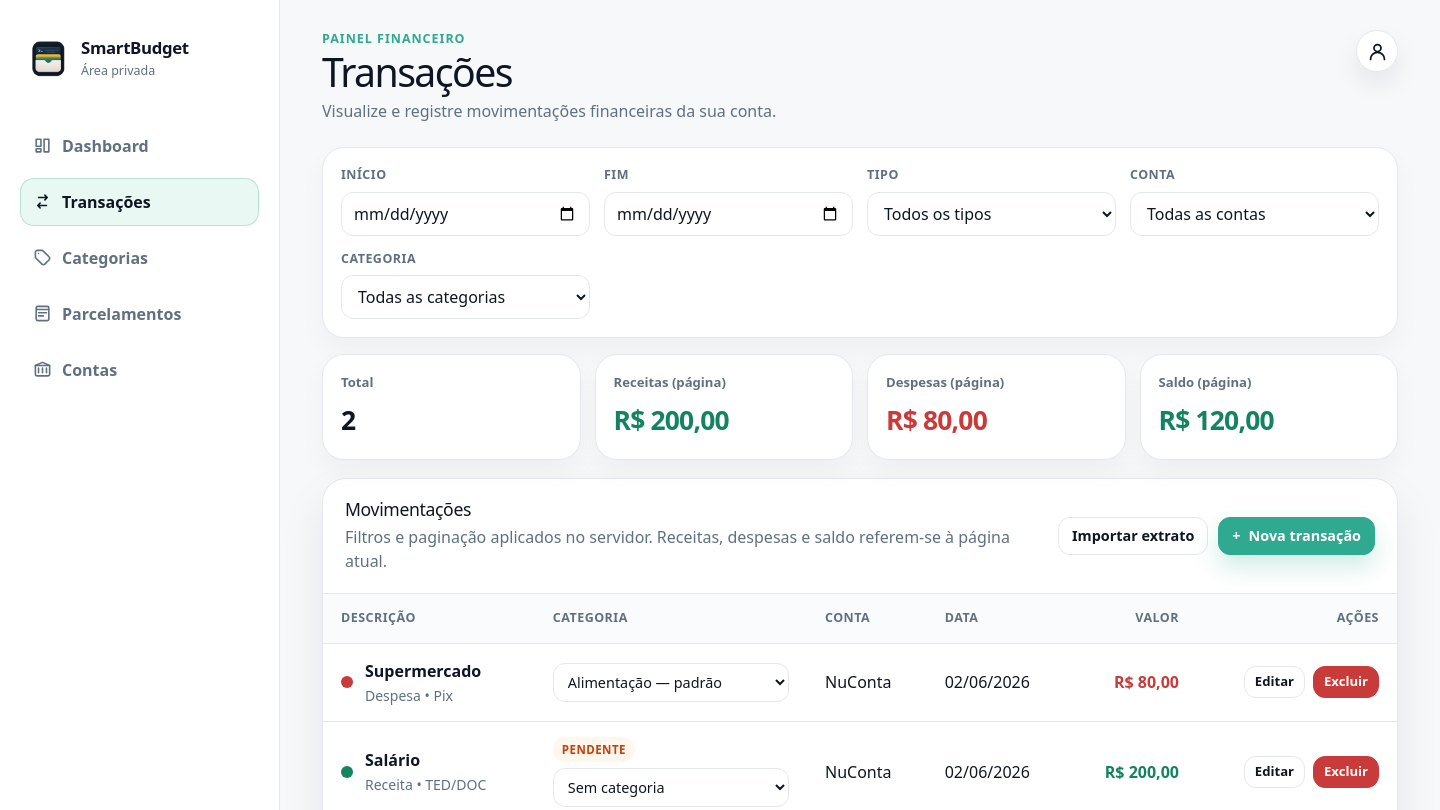
Test: Tela de listagem de Transações (Issue #155) › deve solicitar nova listagem no servidor ao alterar o filtro de tipo
Select "Receita" in the dropdown labelled "Tipo" at (992, 214), box [867,192,1116,236]
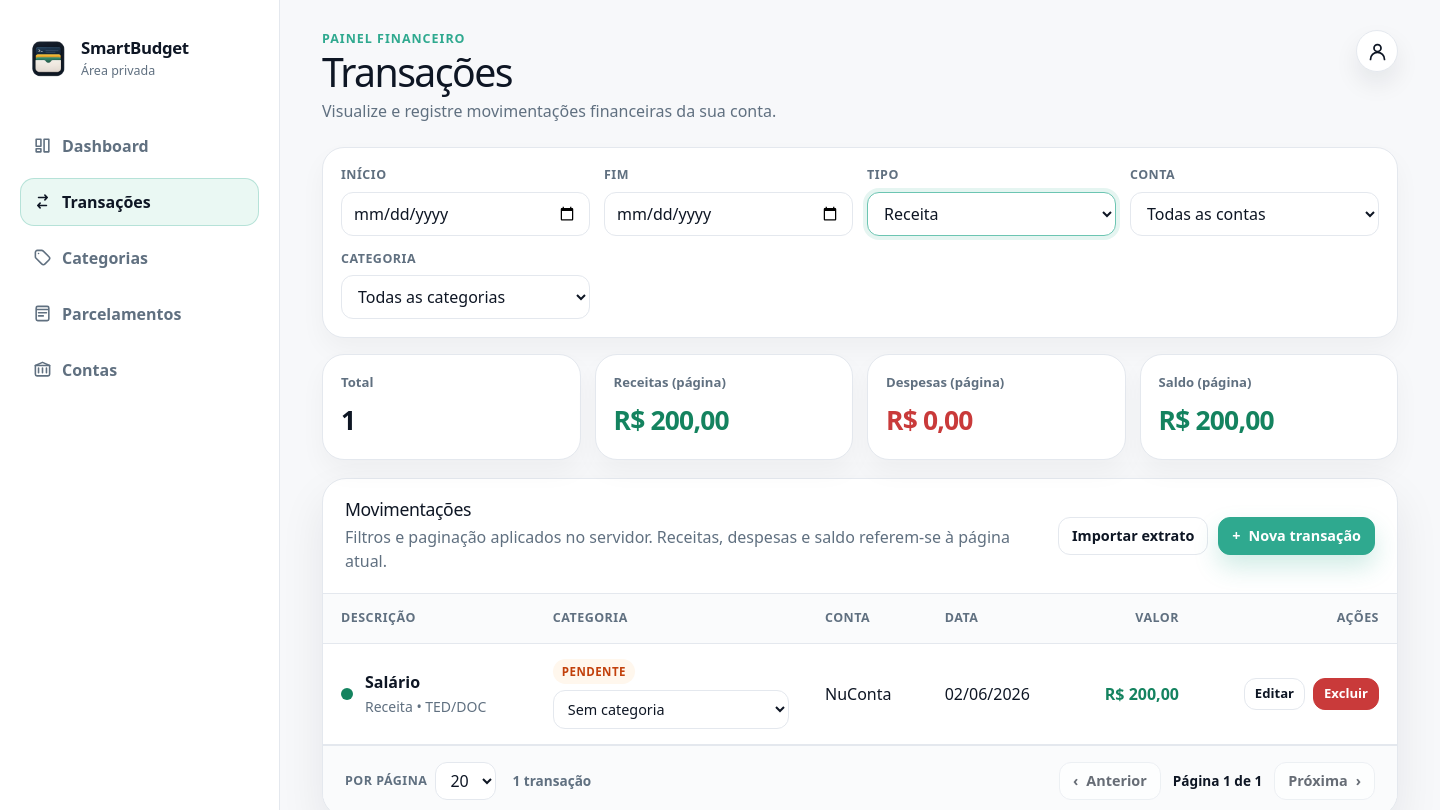
Expected: the text "Salário" is shown, [365,671,420,693]
Now the text "Supermercado" is gone
